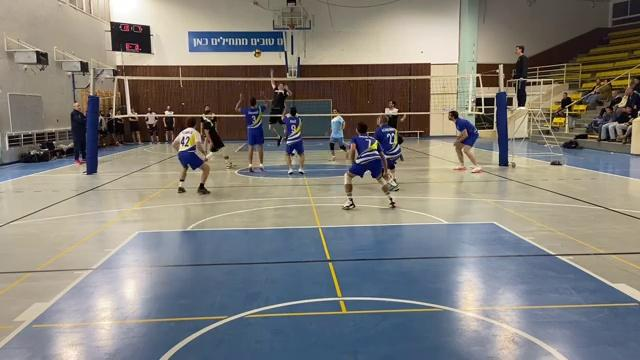ball: (253, 48, 263, 59)
